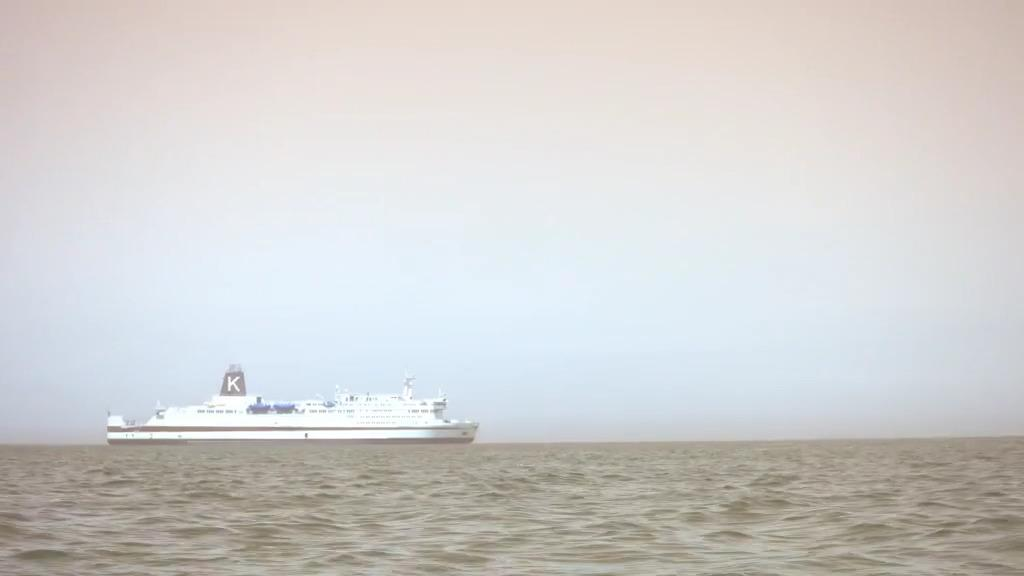PassengerShip: (102, 358, 488, 458)
